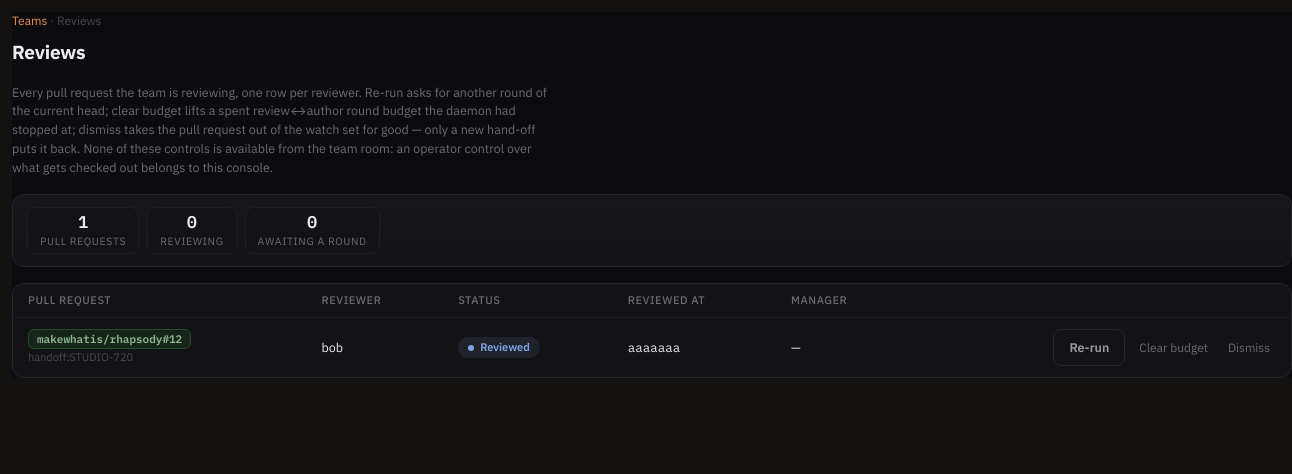
the Reviews surface › clears a refusal when the next control succeeds
Click the button with aria-label "Re-run the review of makewhatis/rhapsody#12" at (1089, 347), box [1053,329,1125,366]
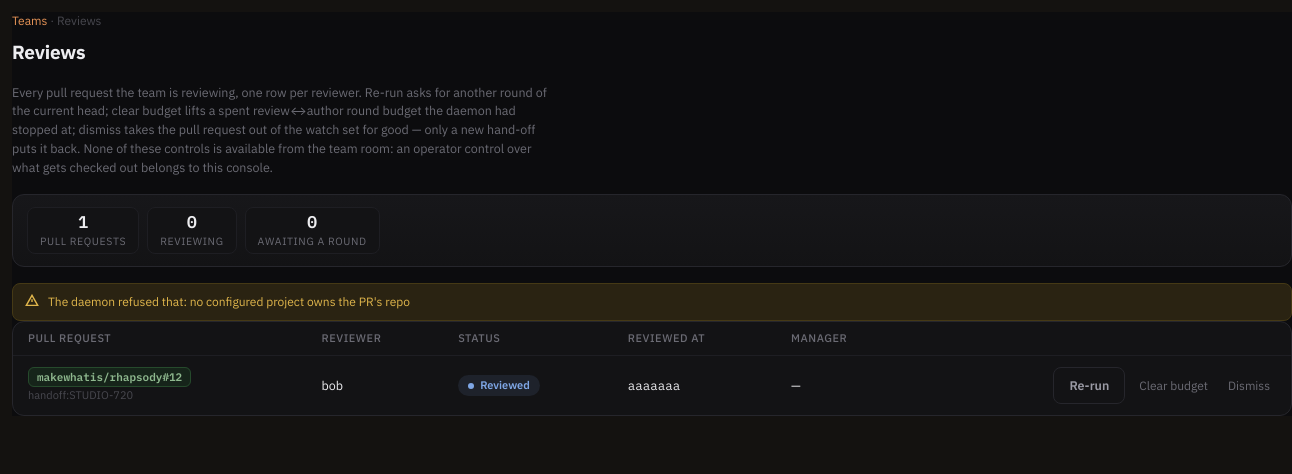
Now the message "The daemon refused that: no configured project owns the PR's repo" is shown, box [12,283,1291,321]
Click the button with aria-label "Dismiss makewhatis/rhapsody#12 from the watch set" at (1249, 386), box [1222,369,1276,403]
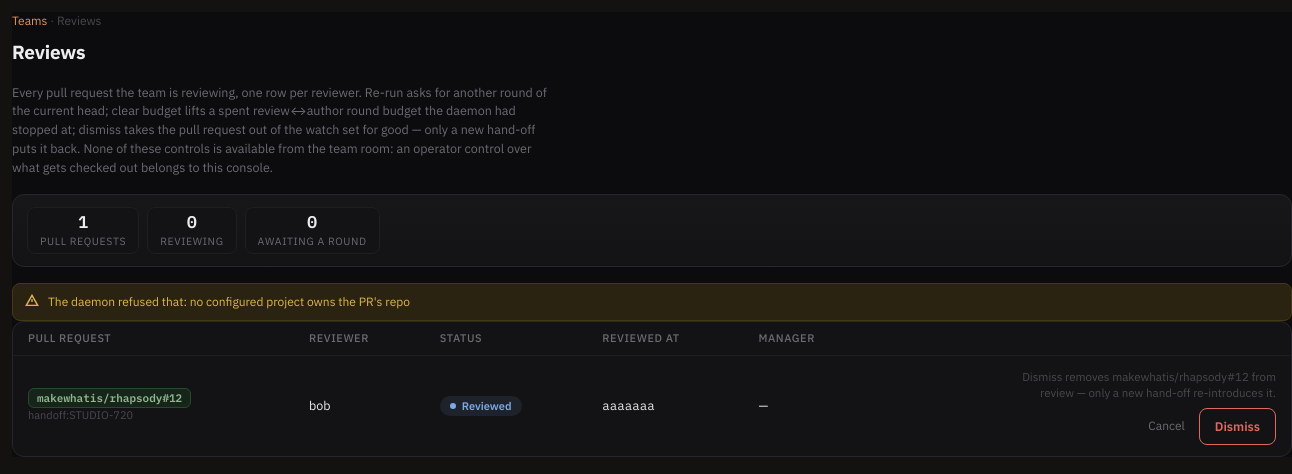
Click the button with aria-label "Confirm dismissing makewhatis/rhapsody#12" at (1237, 426), box [1199,408,1276,445]
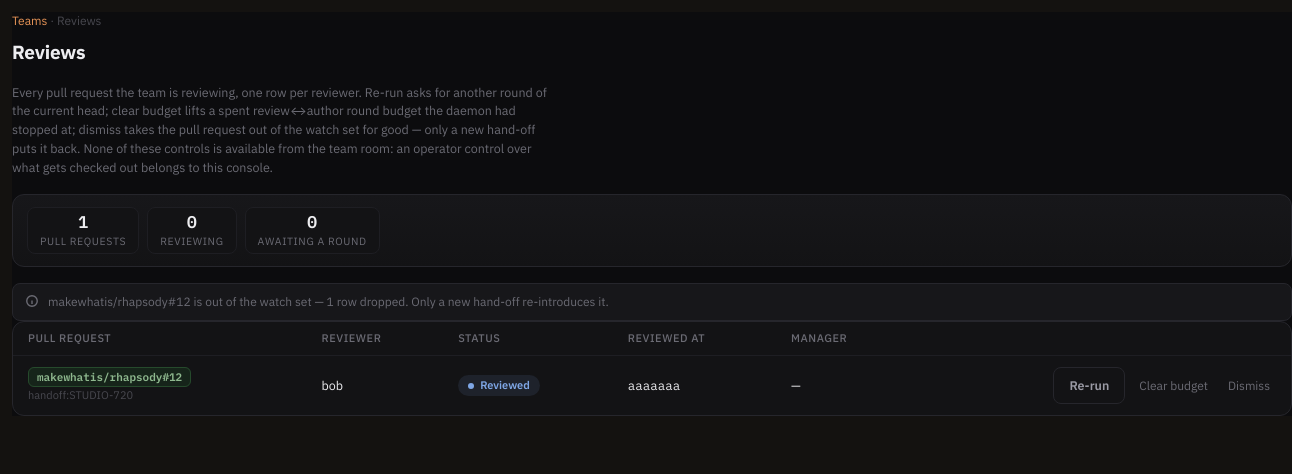
Now the message is shown, box [12,283,1291,321]
